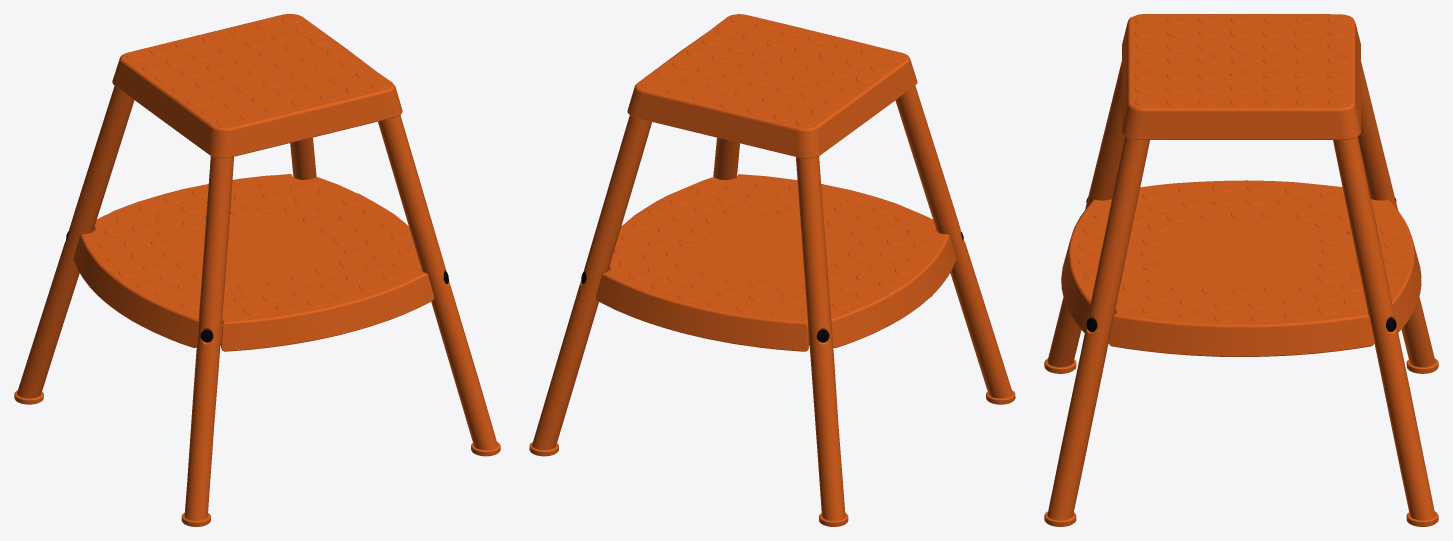
Rendered from haddarp_taboret_ze_schodkiem_20600708.glb.
3 views of the same model, side by side, from view 1: azimuth 30°, elevation 25°; view 2: azimuth 150°, elevation 25°; view 3: azimuth 270°, elevation 25° (orthographic). The views are drawn at different scales.
Parts seen in each view (by area): view 1: haddarp_taboret_ze_schodkiem_20600708; view 2: haddarp_taboret_ze_schodkiem_20600708; view 3: haddarp_taboret_ze_schodkiem_20600708.
Boxes of the visible parts, left/top/right/bottom form: haddarp_taboret_ze_schodkiem_20600708: left=14, top=14, right=500, bottom=526; haddarp_taboret_ze_schodkiem_20600708: left=529, top=14, right=1015, bottom=526; haddarp_taboret_ze_schodkiem_20600708: left=1044, top=14, right=1438, bottom=526.
Size of the model in its own units: 0.4382 by 0.4702 by 0.4383.
Materials: 1 (1 with a texture image).
